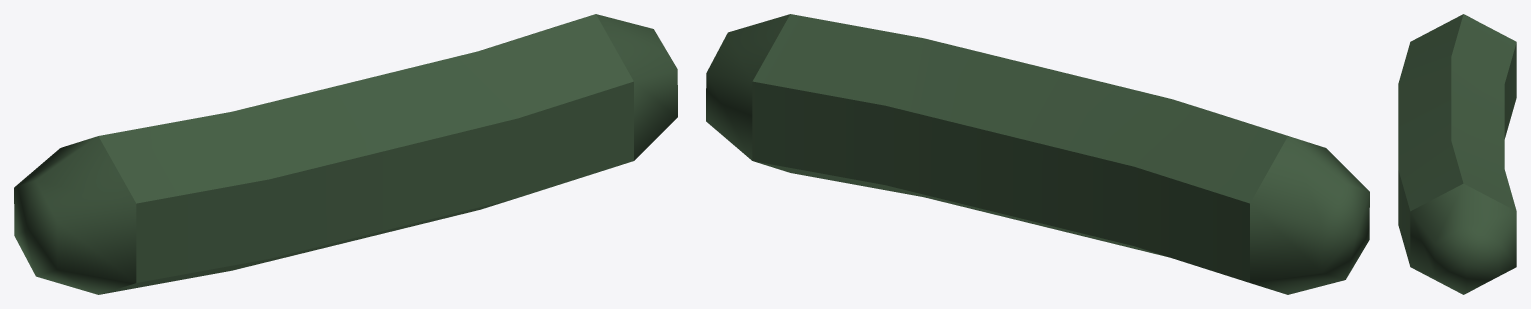
File: Cucumber.fbx
3 renders of one model, left to right at view 1: azimuth 30°, elevation 25°; view 2: azimuth 150°, elevation 25°; view 3: azimuth 270°, elevation 25°, orthographic. The views are drawn at different scales.
Parts seen in each view (by area): view 1: pCylinder1; view 2: pCylinder1; view 3: pCylinder1.
Part boxes in pixels (bbox=[...]): pCylinder1: bbox=[14, 14, 677, 294]; pCylinder1: bbox=[706, 14, 1369, 294]; pCylinder1: bbox=[1398, 14, 1516, 294].
Bounding box in the file's own units: 3.95 × 0.9417 × 0.9047.
